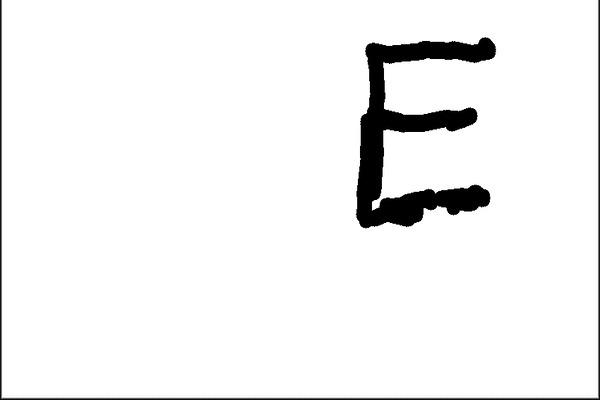E: (349, 33, 501, 232)
